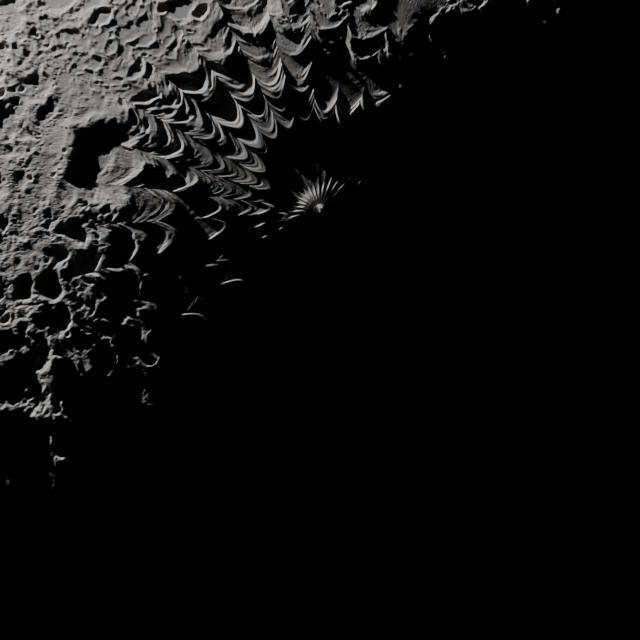rock: (34, 99, 56, 122), (189, 2, 211, 21), (103, 38, 120, 57), (2, 98, 19, 117), (10, 169, 26, 184), (41, 206, 53, 221), (25, 172, 34, 182), (184, 28, 196, 35), (16, 84, 26, 92), (152, 25, 160, 34), (441, 51, 448, 61), (106, 369, 114, 377), (4, 478, 10, 486), (397, 82, 403, 90), (23, 387, 30, 393), (542, 18, 548, 25)
